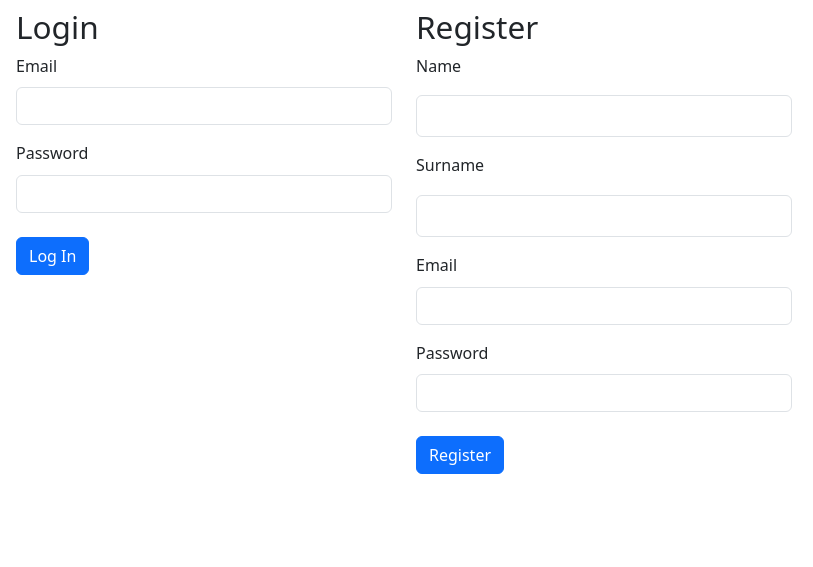
Test: Auth Page Tests › Registration Tests › should show an error for already registered email
In the field with test id "name-input": (604, 117) [416,96,792,138], type "string"
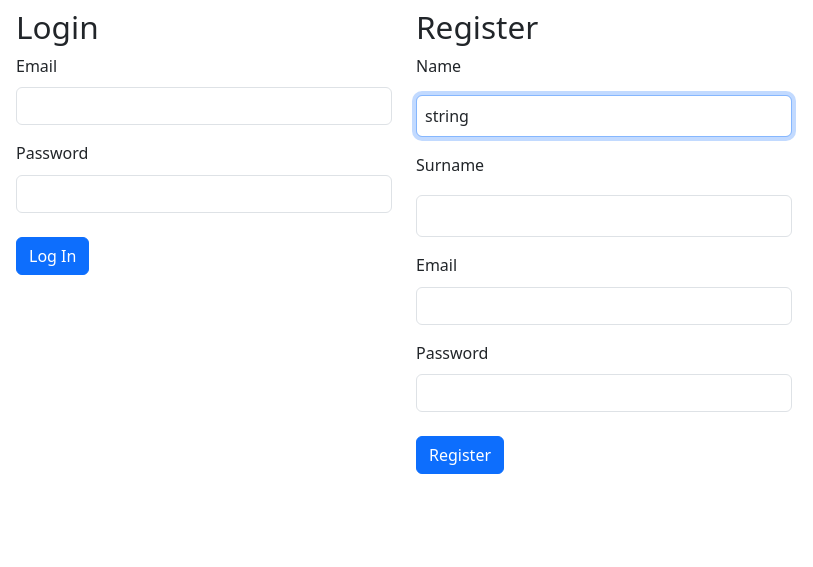
In the field with test id "surname-input": (604, 216) [416,195,792,237], type "string"
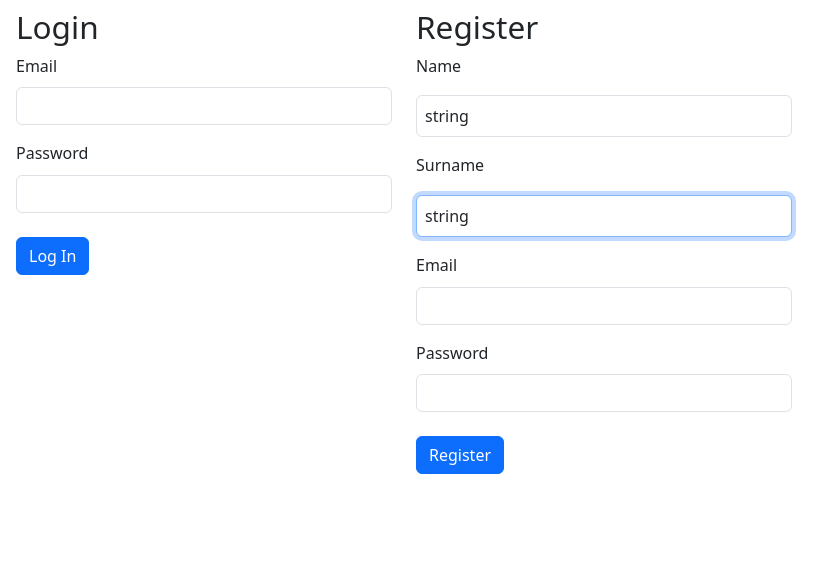
In the field with test id "email-input": (604, 306) [416,287,792,325], type "existinguser@example.com"
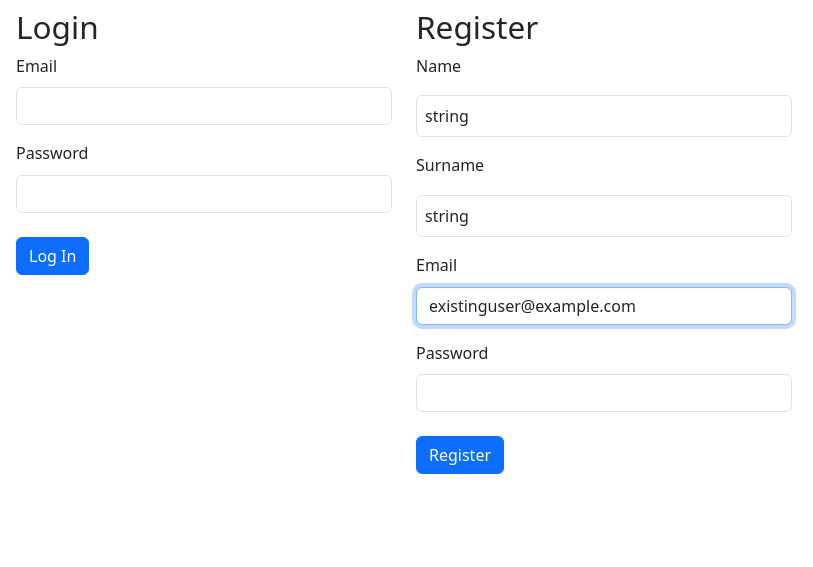
In the password field with test id "password-input": (604, 393) [416,374,792,412], type "string"
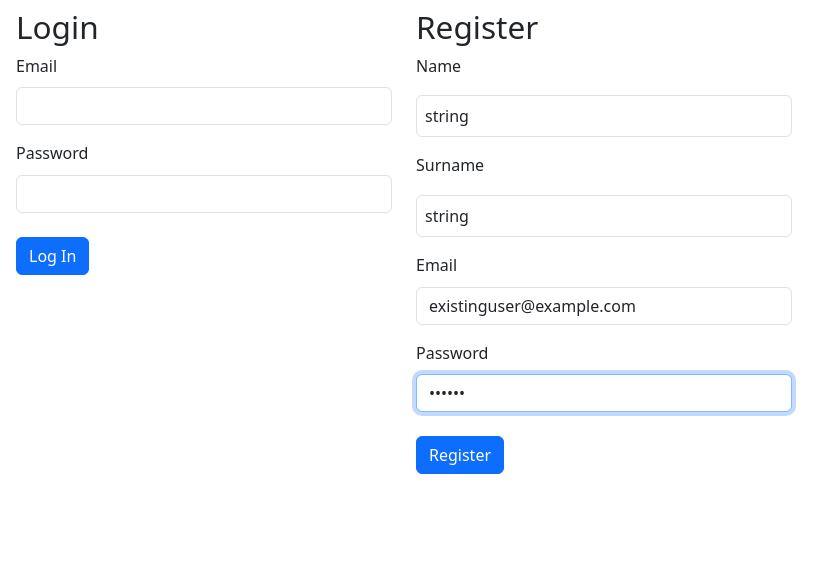
Click the button with test id "submit-button": (460, 455) [416,436,504,474]
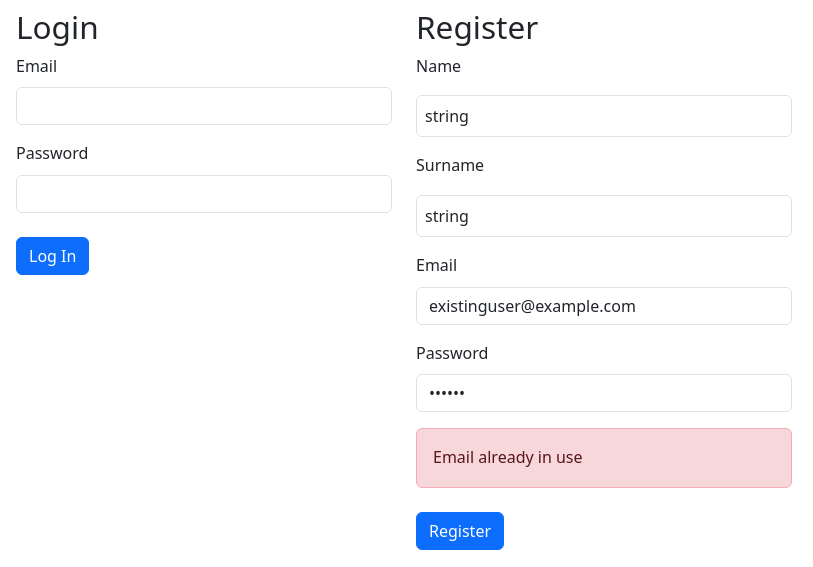
Expected: the text "Email already in use" is shown, [416,428,792,488]
Expected: the text with test id "error-message" reads "Email already in use", [433,446,583,468]
